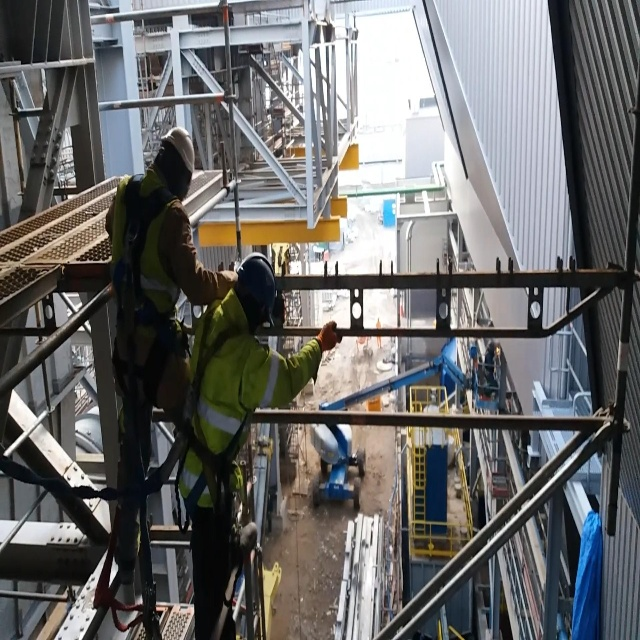Arnes_seguridad: (179, 292, 253, 520), (112, 167, 180, 407)
